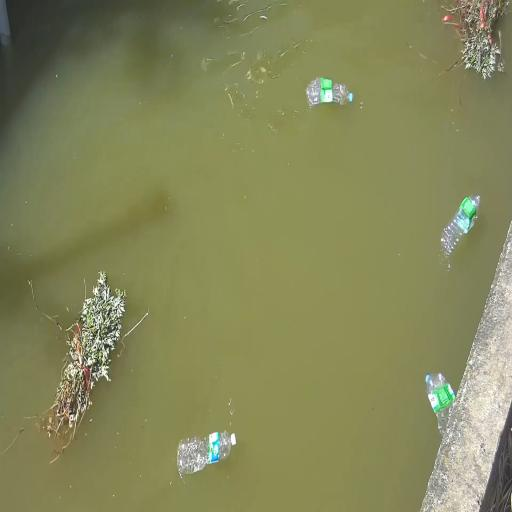plastic: (177, 431, 236, 477), (441, 196, 480, 257), (426, 374, 455, 435), (306, 78, 353, 107), (230, 433, 237, 446)
twig: (27, 271, 126, 463), (442, 0, 509, 79)
